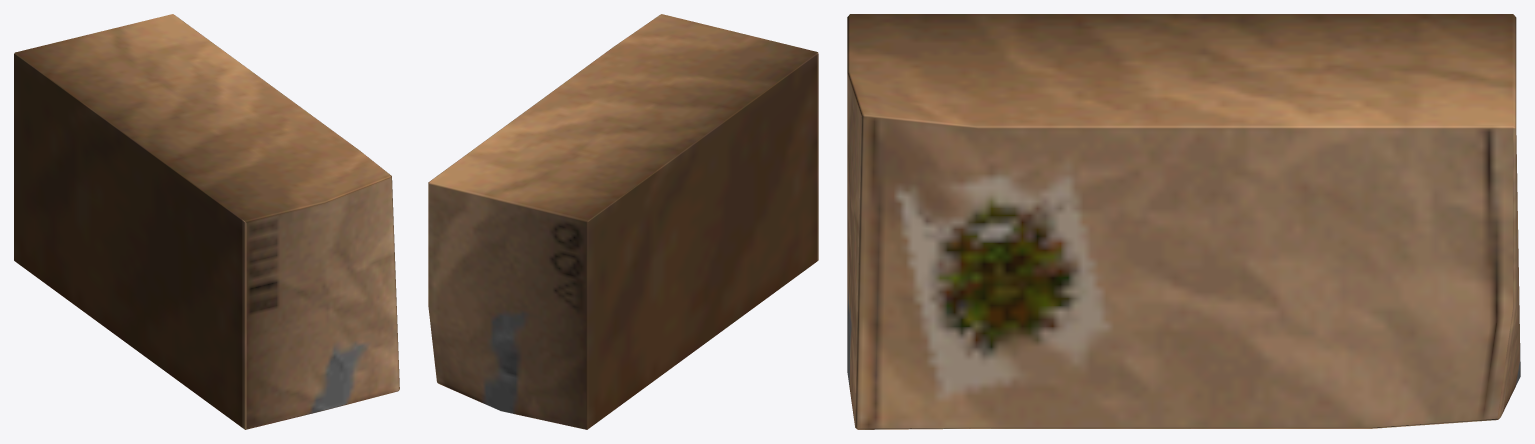
Rendered from SM_PRP_Package_A_01.fbx.
The picture shows the model from 3 angles, left to right: view 1: azimuth 30°, elevation 25°; view 2: azimuth 150°, elevation 25°; view 3: azimuth 270°, elevation 25°; orthographic projection. The views are drawn at different scales.
Visible parts, largest first — view 1: PRP_Package_A_01; view 2: PRP_Package_A_01; view 3: PRP_Package_A_01.
Part boxes in pixels (x1,y1,x2,y2): PRP_Package_A_01: (14,14,399,429); PRP_Package_A_01: (428,14,818,429); PRP_Package_A_01: (847,14,1520,429).
Bounding box in the file's own units: 9.88 × 12.71 × 24.87.
